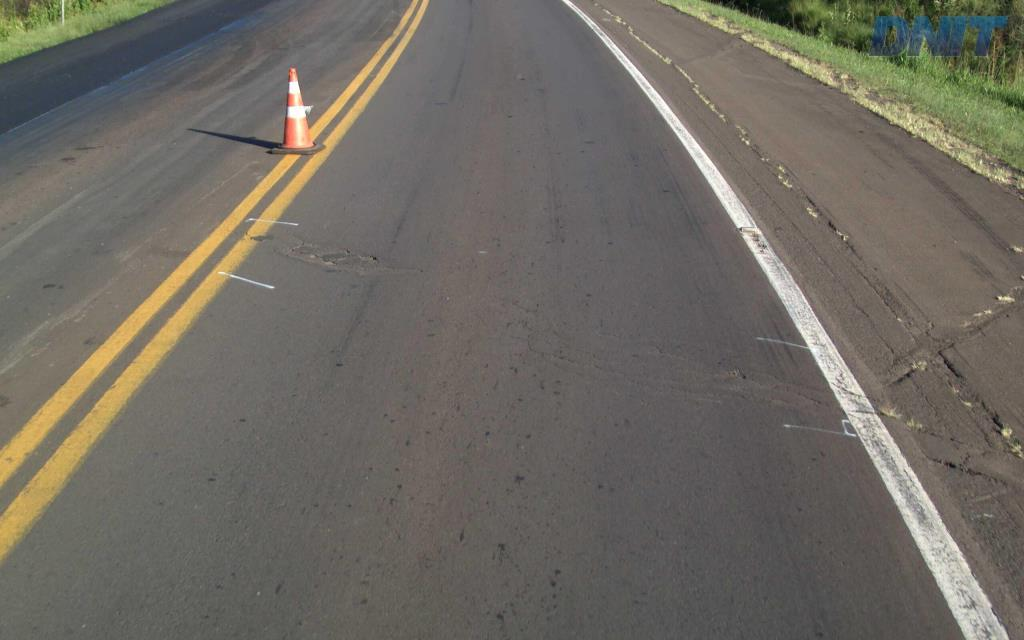pothole: (280, 241, 381, 270), (722, 365, 749, 381)
